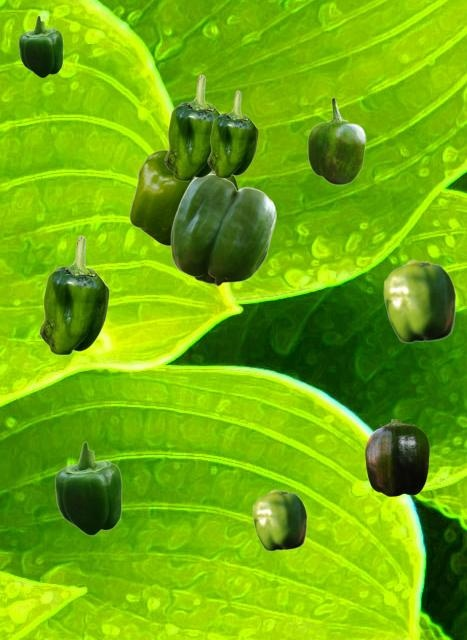bell_pepper: (170, 173, 275, 285), (129, 149, 238, 245), (39, 235, 108, 354), (54, 441, 121, 535), (383, 259, 455, 342), (164, 74, 220, 180), (307, 97, 365, 184), (365, 419, 428, 495), (207, 90, 257, 177), (252, 489, 306, 550), (18, 15, 62, 77)
